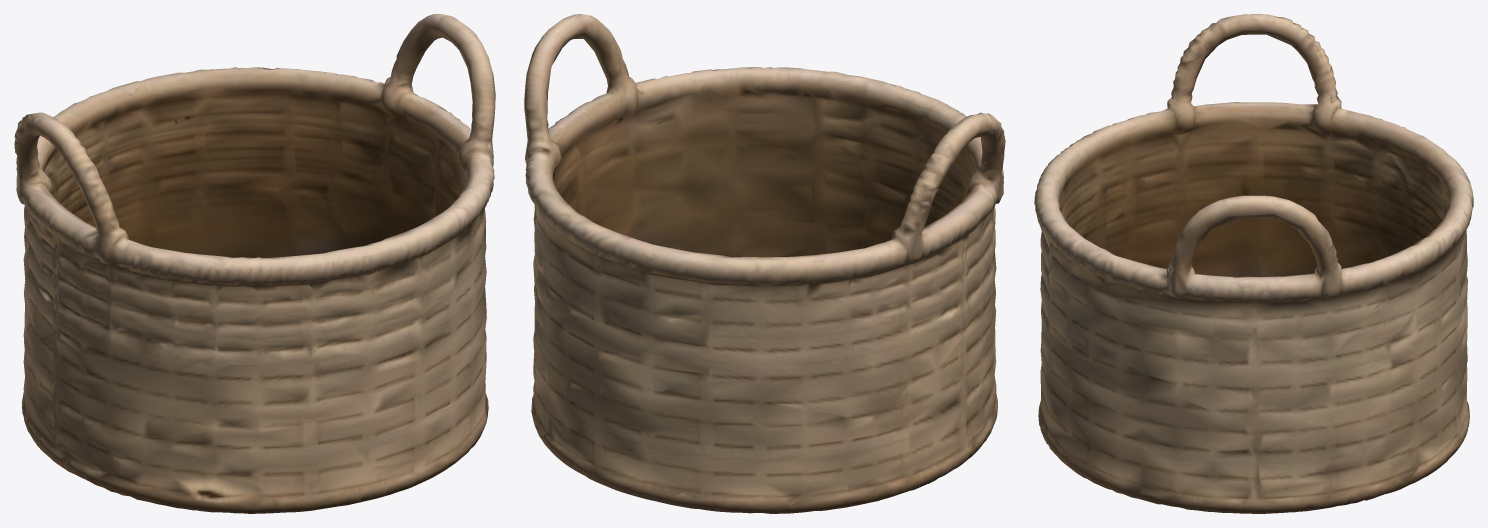
Rendered from basket-lite.glb.
The picture shows the model from 3 angles, left to right: view 1: azimuth 30°, elevation 25°; view 2: azimuth 150°, elevation 25°; view 3: azimuth 270°, elevation 25°; orthographic projection. The views are drawn at different scales.
Visible parts, largest first — view 1: node_0; view 2: node_0; view 3: node_0.
Part boxes in pixels (x1,y1,x2,y2): node_0: (14, 14, 495, 513); node_0: (524, 14, 1005, 513); node_0: (1034, 14, 1473, 513).
Bounding box in the file's own units: 0.9555 × 0.7515 × 0.93.
Materials: 1 (1 with a texture image).
